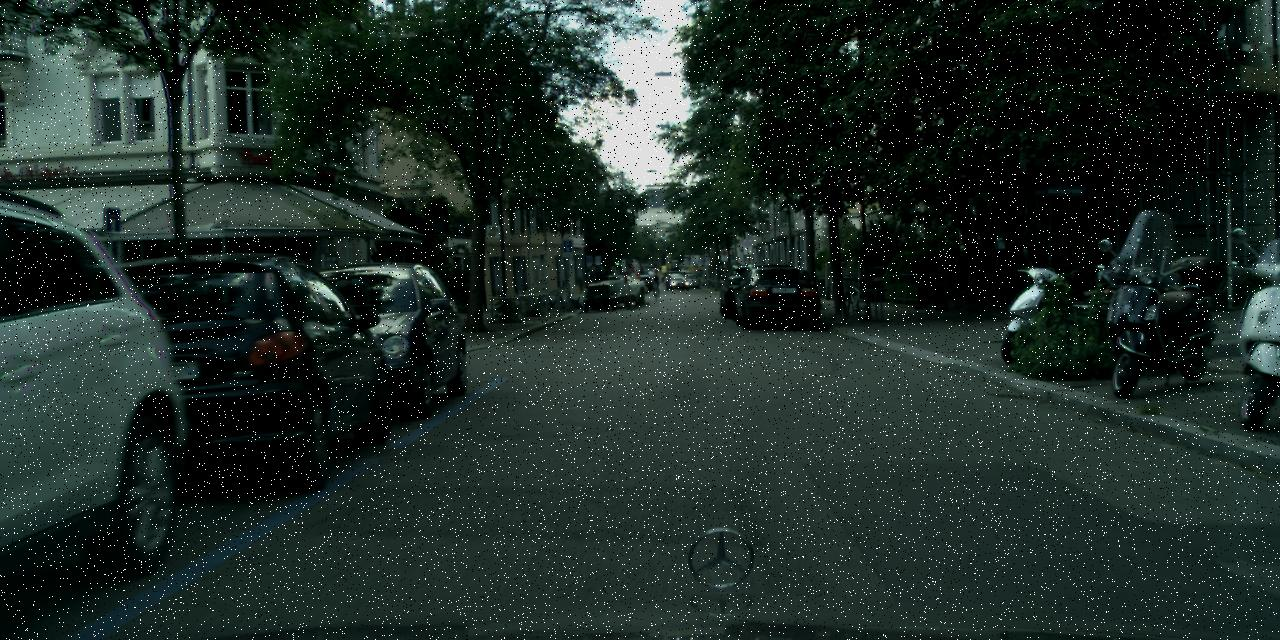ped: (650, 268, 661, 296)
